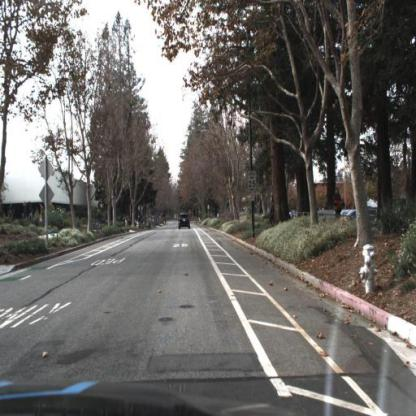car: (177, 213, 193, 234)
pedestrian: (334, 189, 343, 215), (22, 199, 28, 224), (29, 200, 35, 220), (39, 203, 45, 221)
